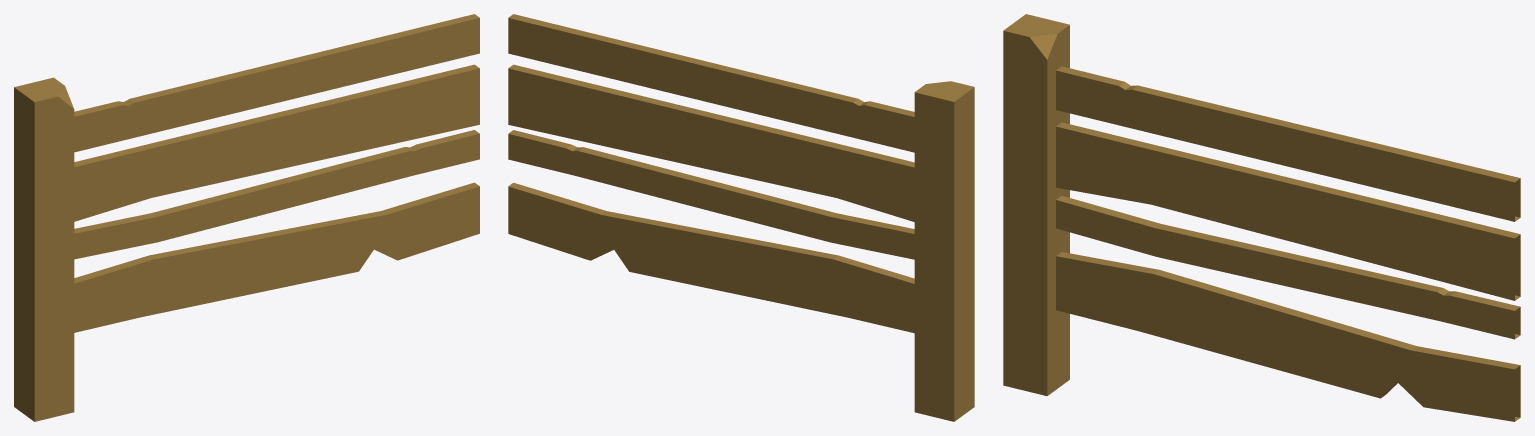
Rendered from SM_WFence_3.fbx.
3 views of the same model, side by side, from view 1: azimuth 30°, elevation 25°; view 2: azimuth 150°, elevation 25°; view 3: azimuth 330°, elevation 25° (orthographic). The views are drawn at different scales.
Visible parts, largest first — view 1: Box049; view 2: Box049; view 3: Box049.
Boxes of the visible parts, left/top/right/bottom form: Box049: left=14, top=14, right=479, bottom=421; Box049: left=508, top=14, right=974, bottom=421; Box049: left=1003, top=14, right=1520, bottom=421.
Bounding box in the file's own units: 157 × 106 × 12.32.
